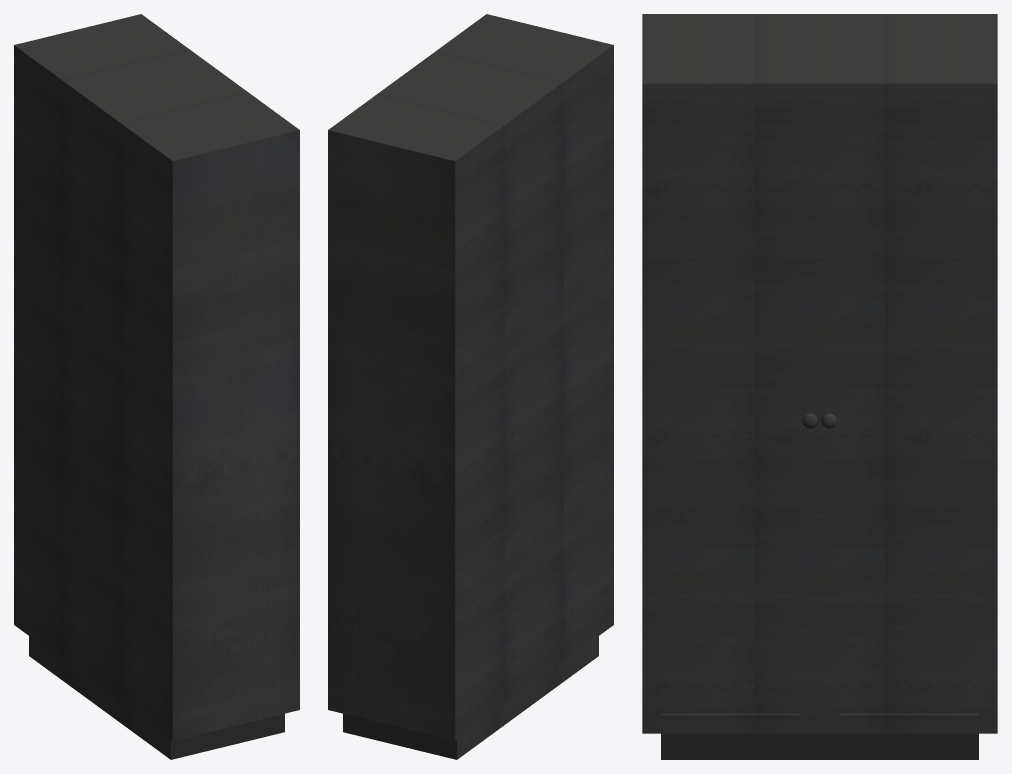
The model's file is Armario.obj.
3 views of the same model, side by side, from view 1: azimuth 30°, elevation 25°; view 2: azimuth 150°, elevation 25°; view 3: azimuth 270°, elevation 25° (orthographic). The views are drawn at different scales.
Parts seen in each view (by area): view 1: Armario:pasted__pasted__pCube1pasted__group16group; view 2: Armario:pasted__pasted__pCube1pasted__group16group; view 3: Armario:pasted__pasted__pCube1pasted__group16group.
Part boxes in pixels (x1,y1,x2,y2): Armario:pasted__pasted__pCube1pasted__group16group: (14, 14, 299, 759); Armario:pasted__pasted__pCube1pasted__group16group: (328, 14, 613, 759); Armario:pasted__pasted__pCube1pasted__group16group: (642, 14, 997, 759).
Bounding box in the file's own units: 0.6326 × 2.8 × 1.33.
